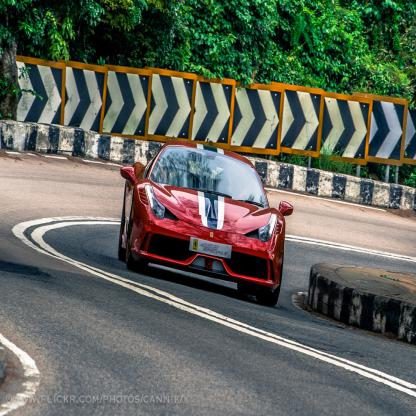Car: (118, 140, 294, 307)
